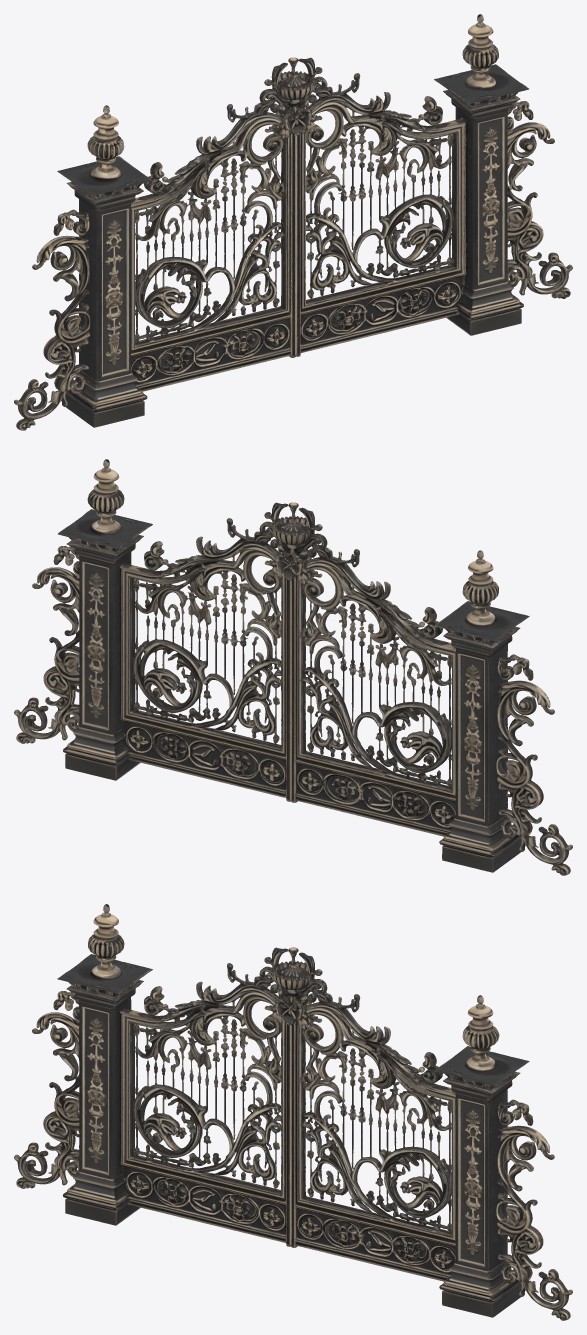
The model's file is Ornate Baroque Iron Gate_DKB.glb.
The picture shows the model from 3 angles, top to bottom: view 1: azimuth 30°, elevation 25°; view 2: azimuth 150°, elevation 25°; view 3: azimuth 330°, elevation 25°; orthographic projection.
Bounding box in the file's own units: 1.9 × 0.9981 × 0.2005.
1 material, 1 textured.
